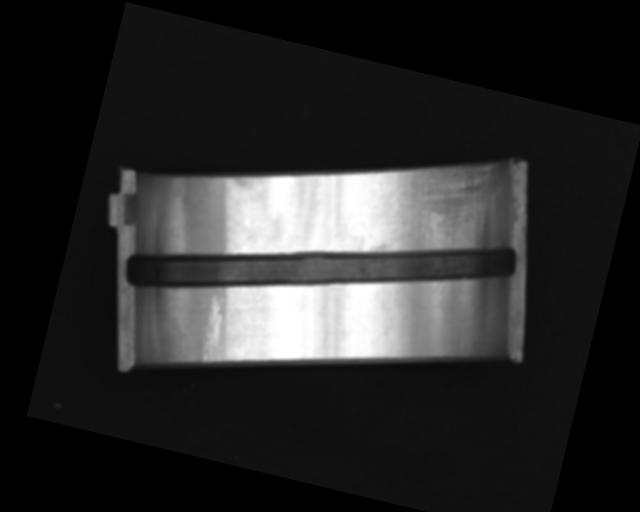gap: (121, 161, 518, 371)
nick: (194, 293, 230, 367)
scratch: (371, 139, 506, 277)
